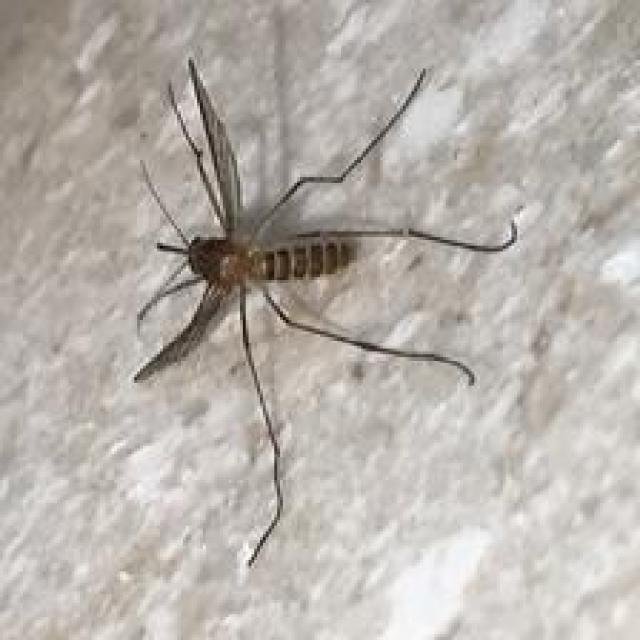Culex: (130, 54, 521, 569)
